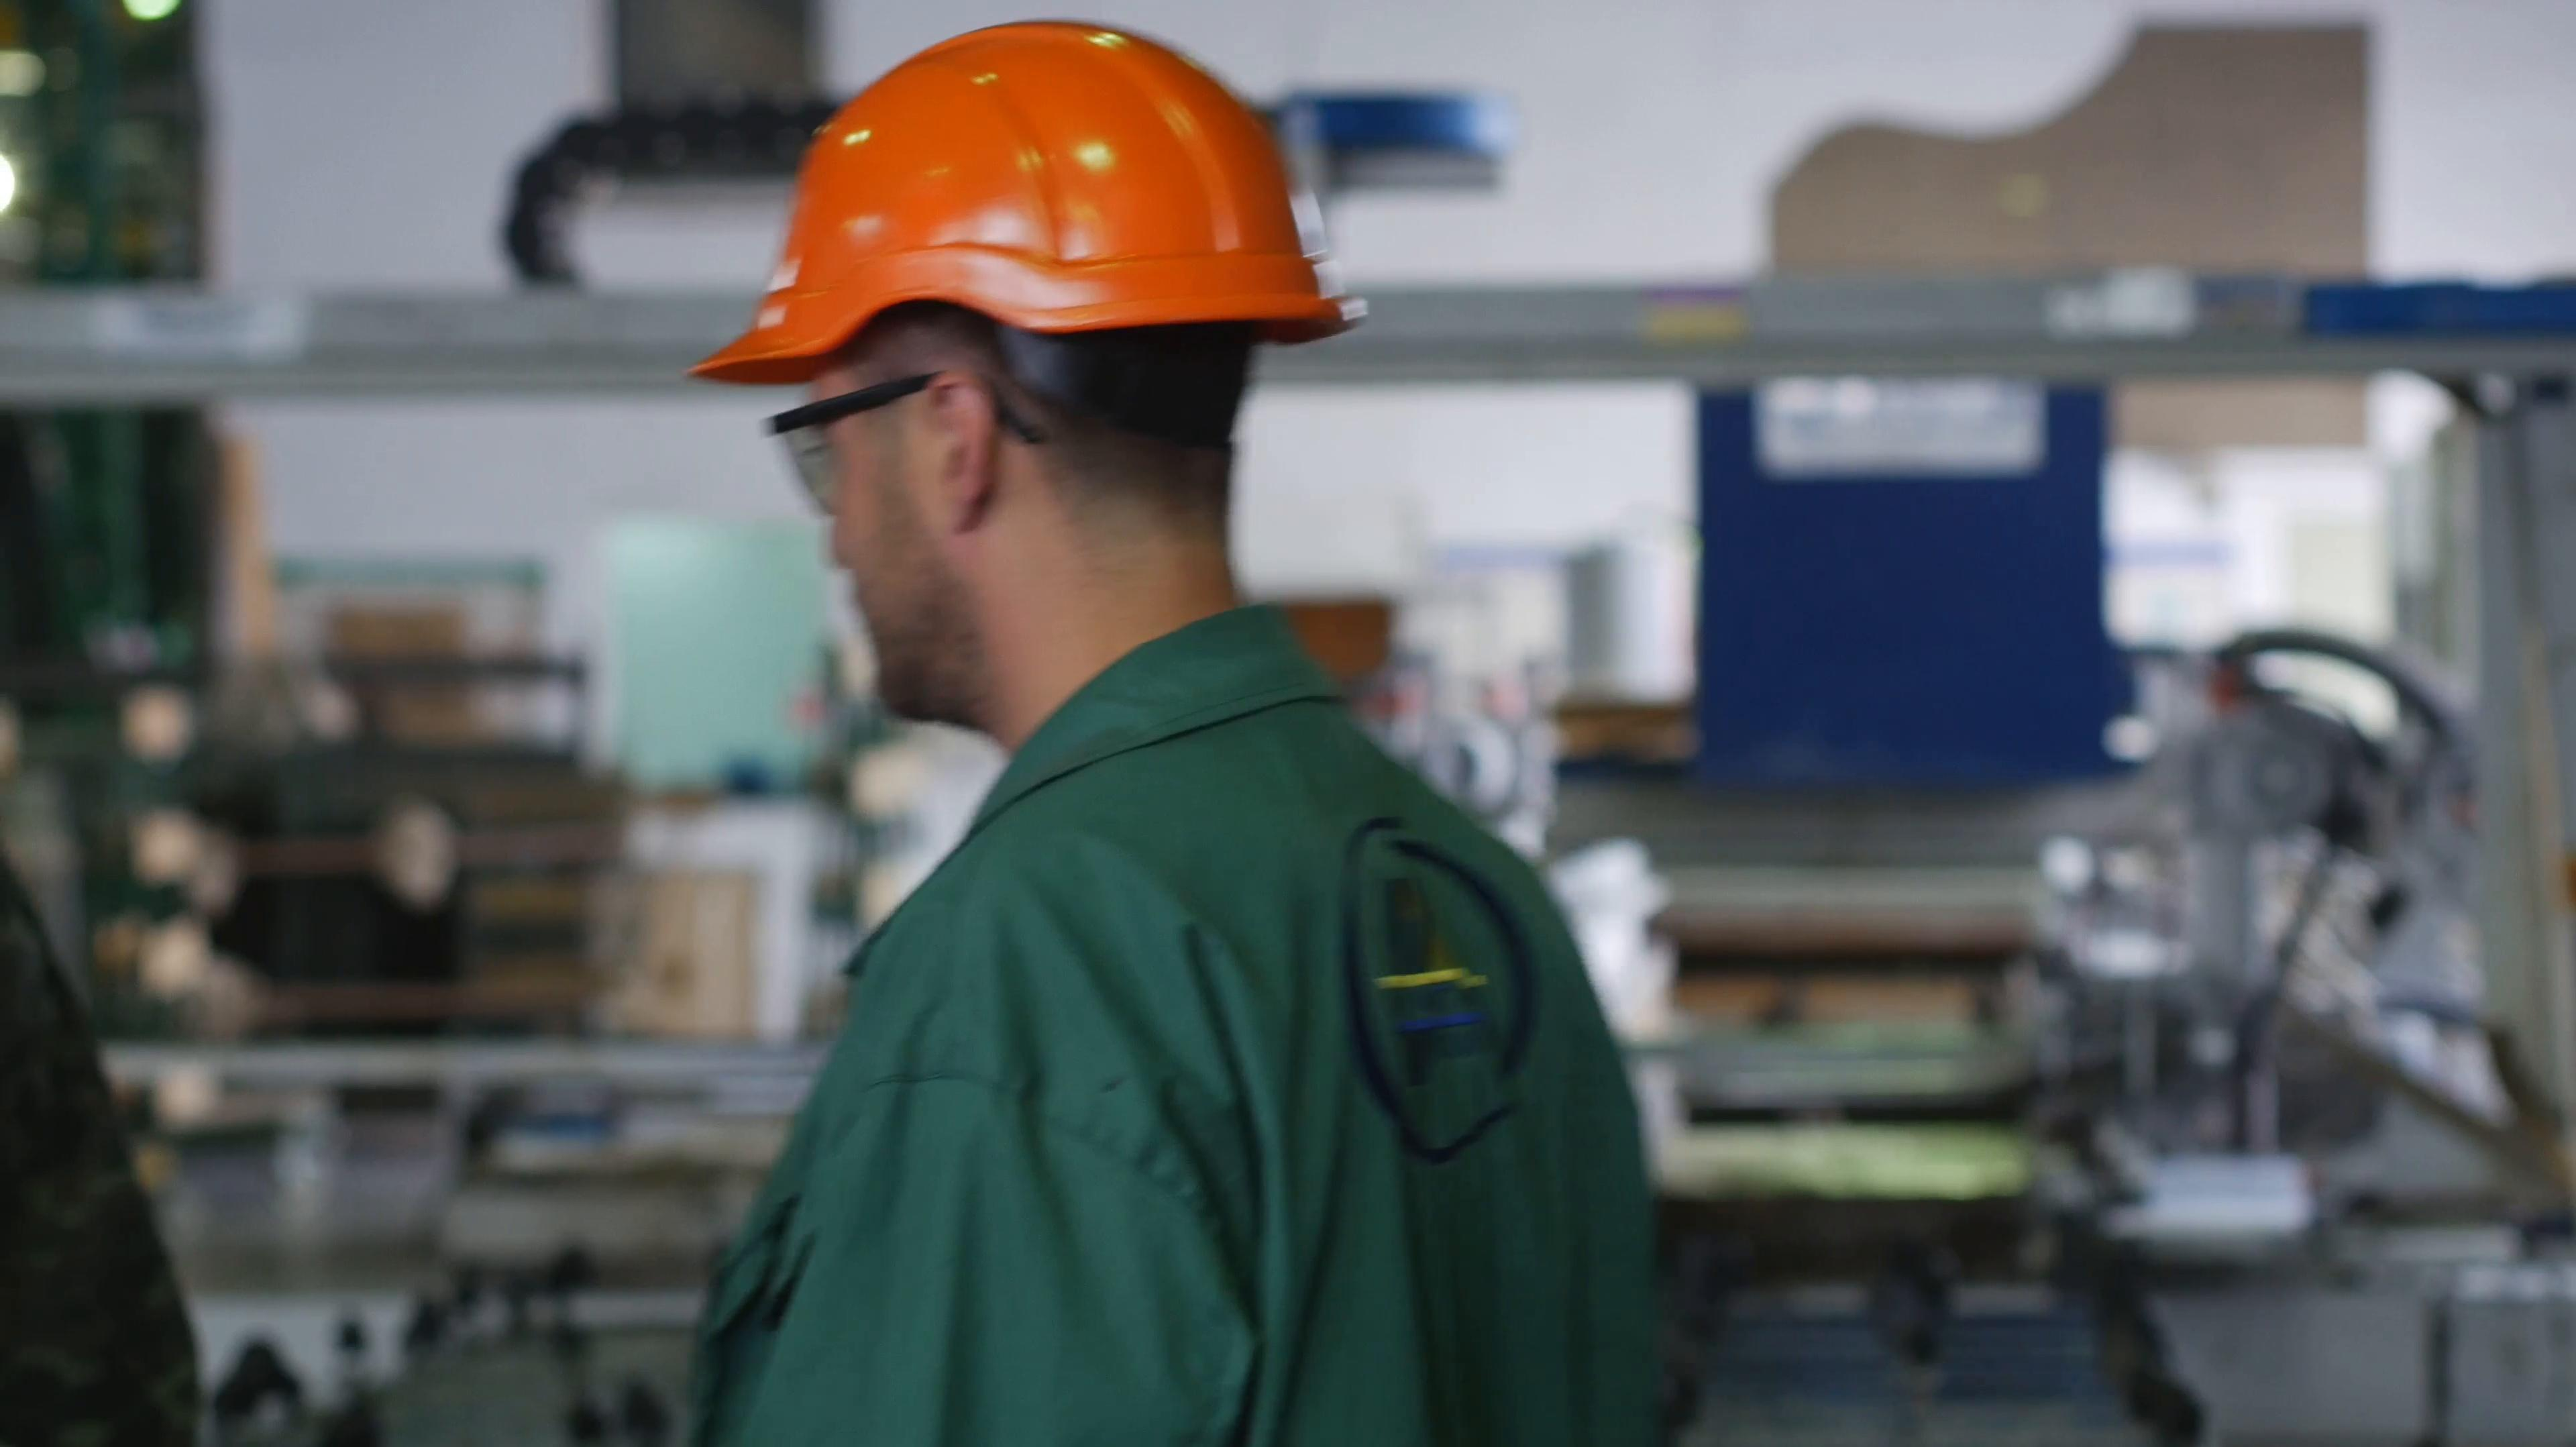helmet: (686, 23, 1359, 373)
